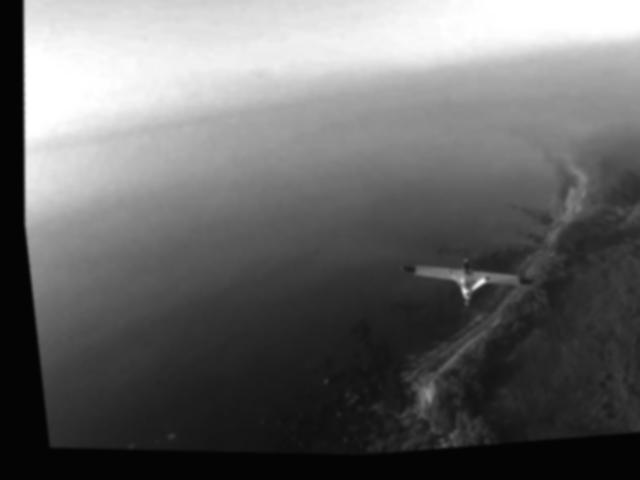hedef: (375, 236, 548, 338)
